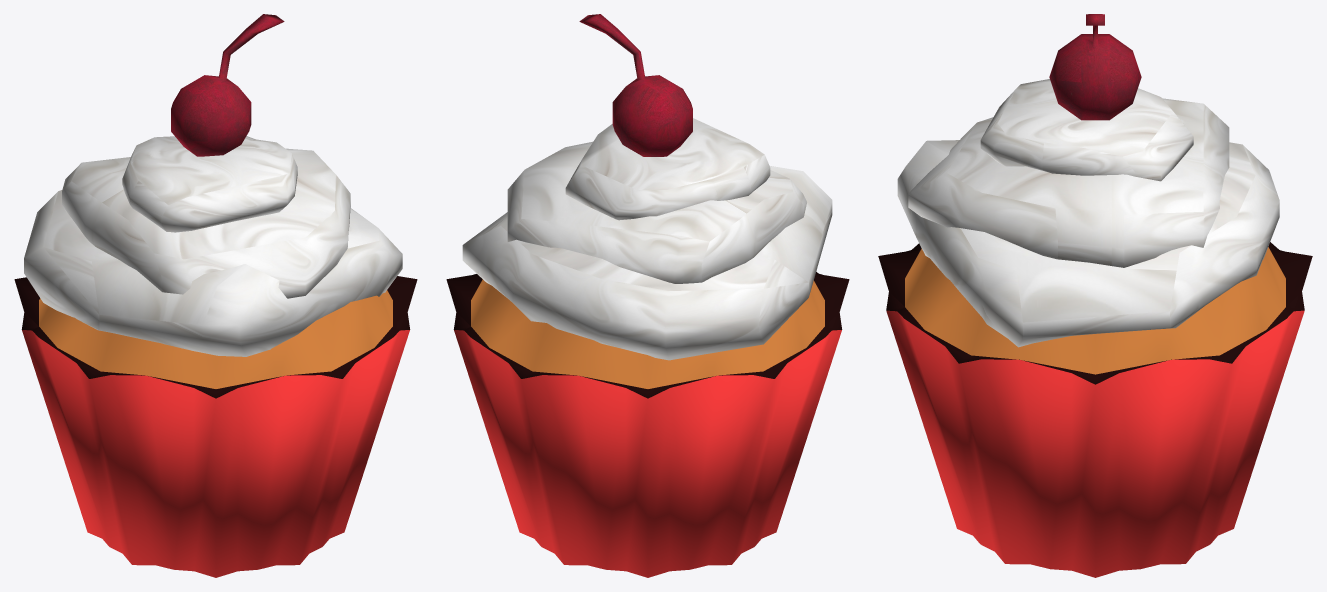
File: CUPCAKE01.FBX
3 views of the same model, side by side, from view 1: azimuth 30°, elevation 25°; view 2: azimuth 150°, elevation 25°; view 3: azimuth 270°, elevation 25° (orthographic). The views are drawn at different scales.
Visible parts, largest first — view 1: Cylinder001, Box003, Object002, Object001, Sphere001; view 2: Cylinder001, Box003, Object002, Object001, Sphere001; view 3: Cylinder001, Box003, Object002, Object001, Sphere001.
Part boxes in pixels (x1=…): Cylinder001: x1=14, y1=276, x2=417, y2=577; Box003: x1=24, y1=190, x2=402, y2=356; Object002: x1=62, y1=148, x2=350, y2=298; Object001: x1=122, y1=136, x2=297, y2=232; Sphere001: x1=171, y1=14, x2=284, y2=156; Cylinder001: x1=446, y1=272, x2=849, y2=577; Box003: x1=462, y1=166, x2=832, y2=360; Object002: x1=507, y1=141, x2=806, y2=283; Object001: x1=565, y1=118, x2=770, y2=220; Sphere001: x1=579, y1=14, x2=692, y2=156; Cylinder001: x1=878, y1=242, x2=1312, y2=577; Box003: x1=897, y1=140, x2=1279, y2=347; Object002: x1=908, y1=98, x2=1229, y2=267; Object001: x1=980, y1=79, x2=1193, y2=181; Sphere001: x1=1049, y1=14, x2=1141, y2=120.
Size of the model in its own units: 50.19 by 67.93 by 50.35.
Materials: 5 (2 with a texture image).
